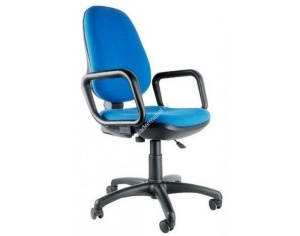chair: (81, 6, 224, 233)
